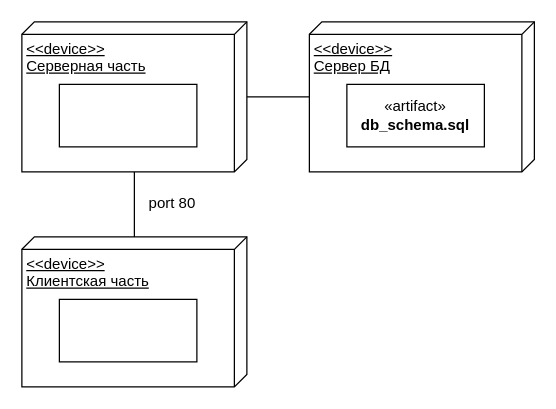
Some shapes in this 556 by 409 pixel diagram are drawn without their labels. Here are the shapes that lost their labels. From the top down, the centre of each, then its label:
At [127,115]: "«artifact» index.php".
At [127,330]: "«artifact» page.js".
